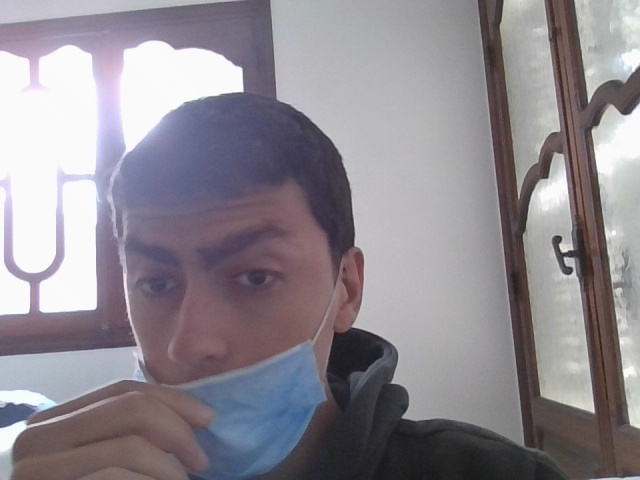mask_weared_incorrect: (113, 165, 337, 472)
